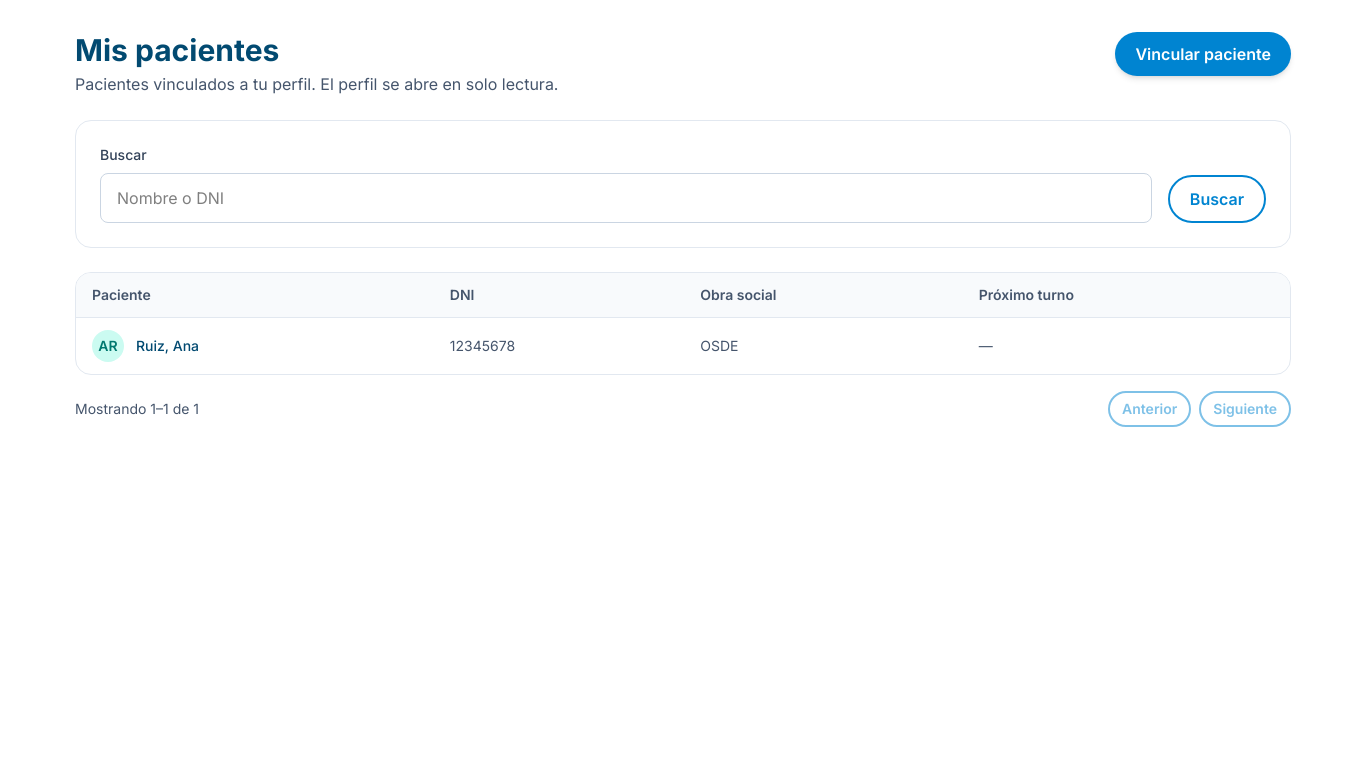
DoctorPatientsPage › vincula un paciente existente desde el modal
This screenshot has width=1366, height=768.
Expected: the link "Ruiz, Ana" is shown, [136, 336, 199, 356]
Click the button "Vincular paciente": (1203, 54) [1116, 32, 1291, 76]
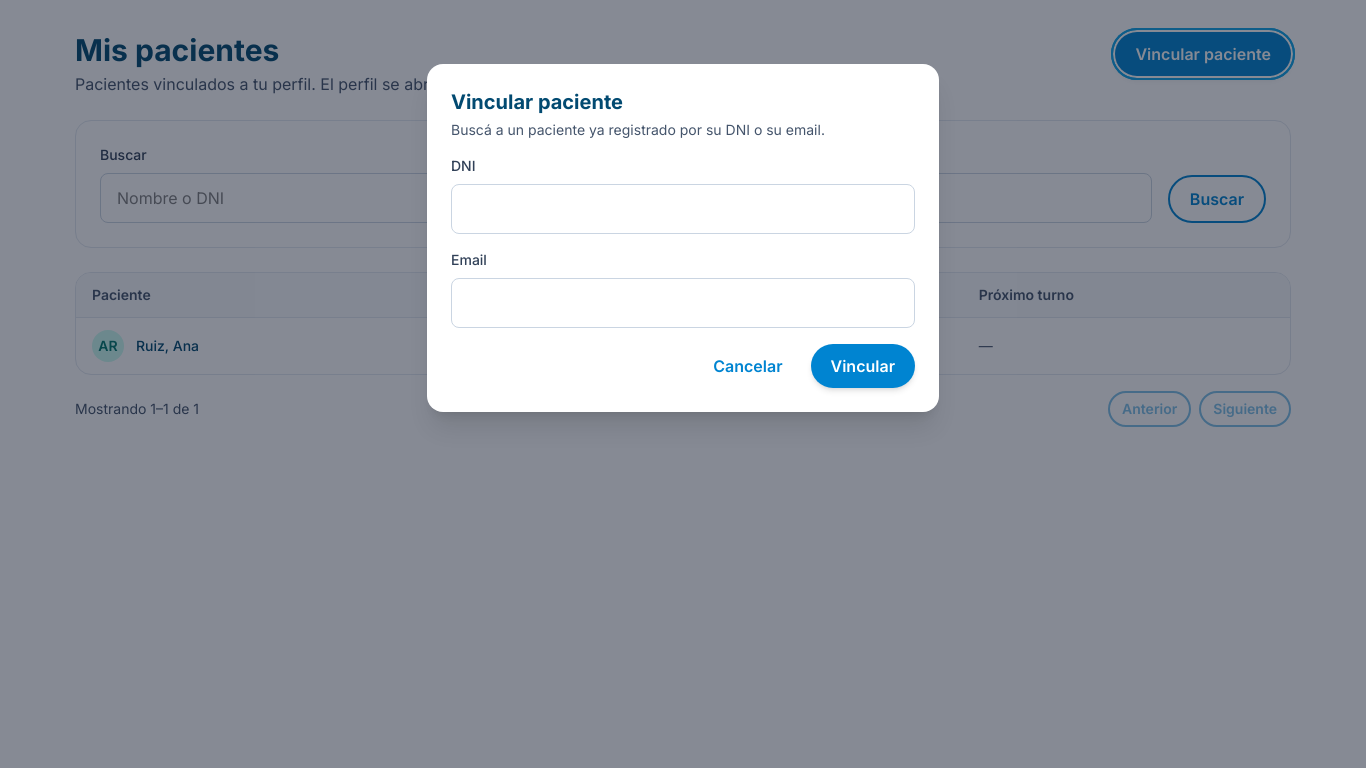
In the field labelled "DNI": (683, 209) [451, 184, 915, 234], type "30111222"
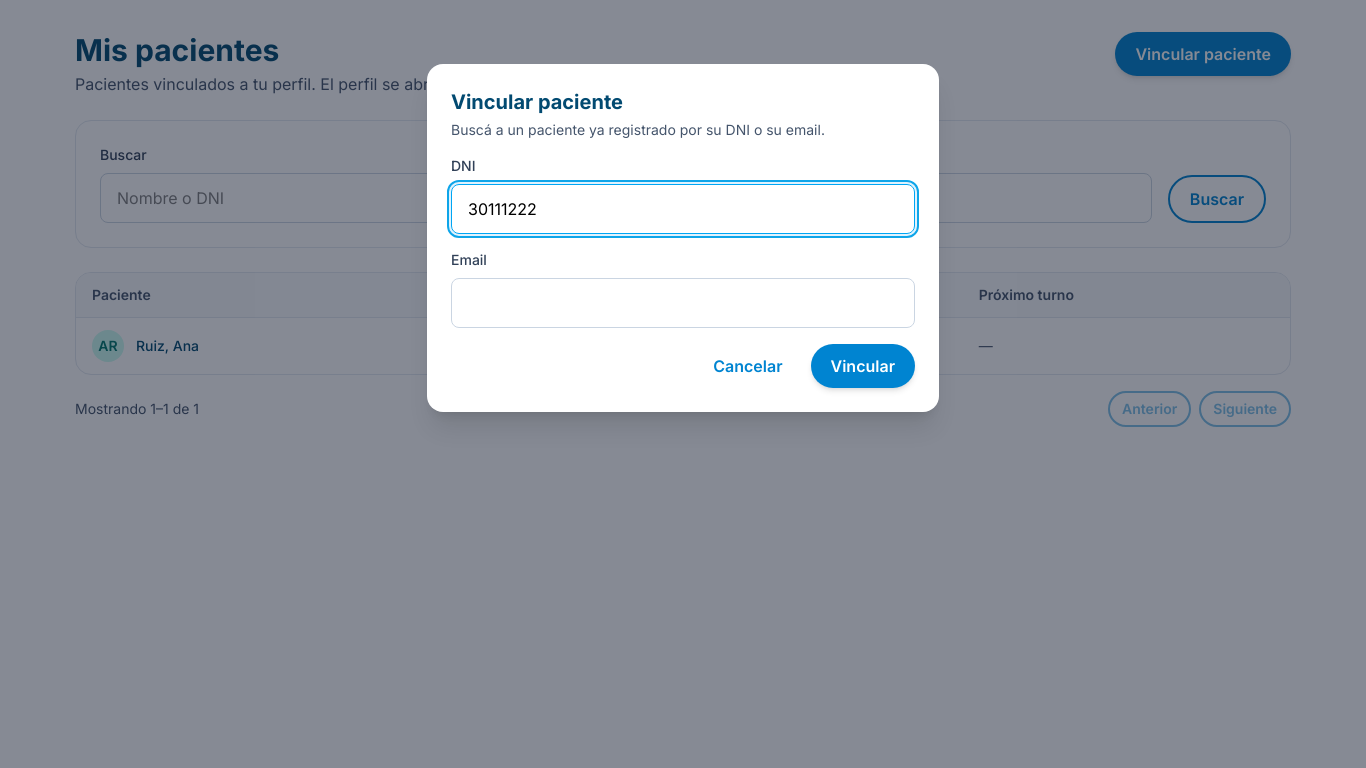
Click the button "Vincular": (863, 366) [810, 344, 915, 388]
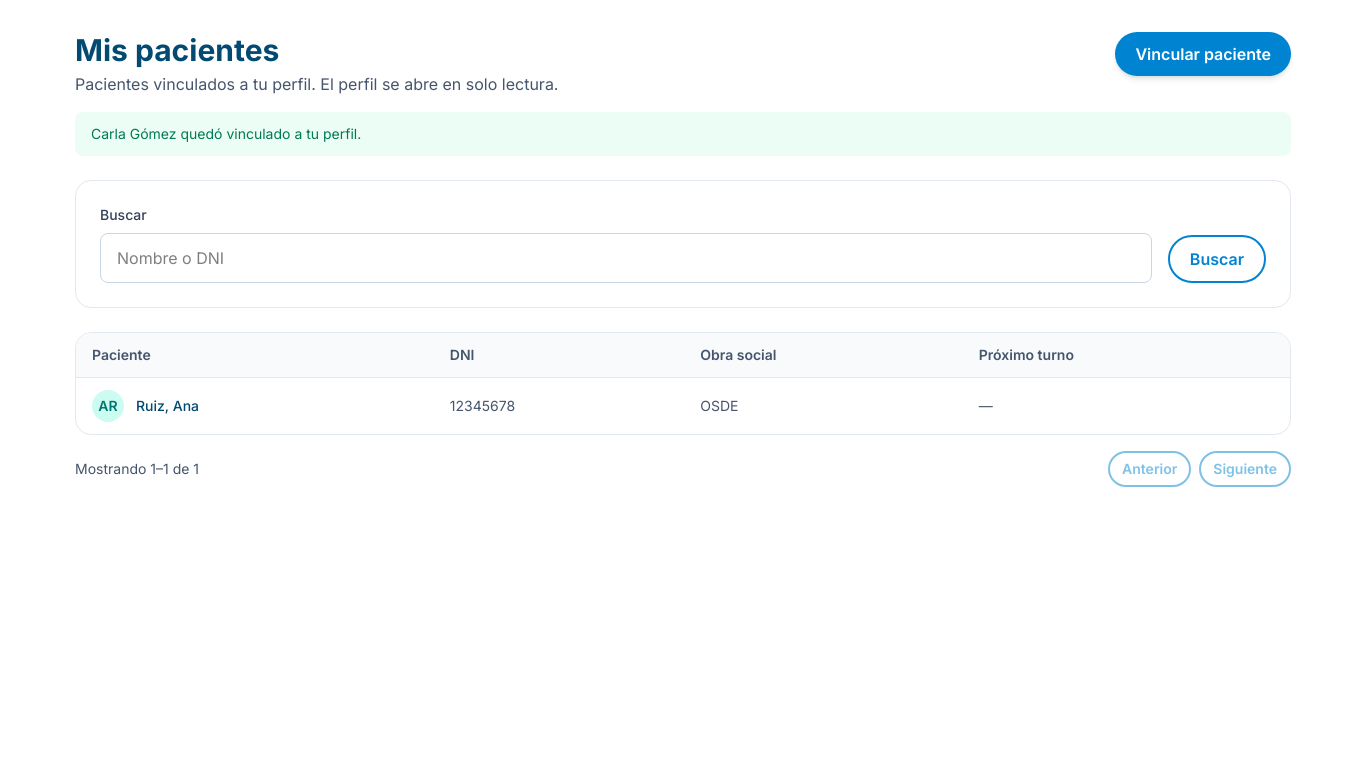
Now the text "Carla Gómez quedó vinculado a tu perfil." is shown, box [75, 112, 1291, 156]
